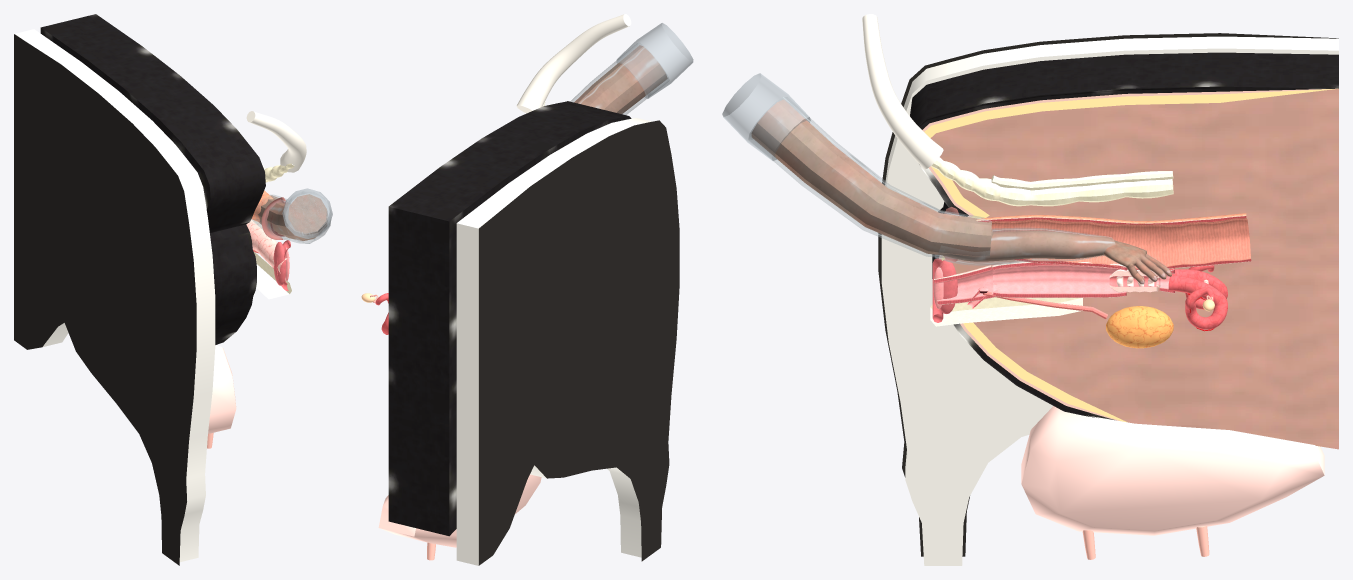
Rendered from tract-CofHcca7.glb.
3 renders of one model, left to right at view 1: azimuth 30°, elevation 25°; view 2: azimuth 150°, elevation 25°; view 3: azimuth 270°, elevation 25°, orthographic. The views are drawn at different scales.
Parts seen in each view (by area): view 1: TR_body_far, TR_skin_section, HAND_sleeve, TR_udder, TR_tail_section, TR_pelvis, TR_vulva, TR_vestibule, TR_anus; view 2: TR_body_far, TR_skin_section, HAND_sleeve, TR_tail_section, TR_udder; view 3: TR_skin_section, TR_body_far, TR_udder, HAND_sleeve, TR_rectum, TR_sacrum, HAND_forearm, TR_vagina, TR_tail_section, TR_pelvis, TR_bladder, TR_horn_right (+4 smaller).
Part boxes in pixels (box(x1,y1,x2,y2)): TR_body_far: box(14, 29, 215, 565); TR_skin_section: box(40, 14, 265, 344); HAND_sleeve: box(255, 188, 332, 243); TR_udder: box(207, 345, 236, 448); TR_tail_section: box(246, 111, 306, 172); TR_pelvis: box(254, 252, 291, 299); TR_vulva: box(273, 242, 289, 285); TR_vestibule: box(254, 232, 289, 273); TR_anus: box(261, 197, 285, 239); TR_body_far: box(456, 118, 679, 565); TR_skin_section: box(388, 101, 631, 536); HAND_sleeve: box(570, 23, 693, 114); TR_tail_section: box(516, 14, 631, 113); TR_udder: box(378, 474, 541, 560); TR_skin_section: box(910, 52, 1338, 449); TR_body_far: box(878, 33, 1338, 565); TR_udder: box(1021, 406, 1324, 559); HAND_sleeve: box(722, 73, 993, 260); TR_rectum: box(976, 213, 1251, 269); TR_sacrum: box(931, 157, 1173, 206); HAND_forearm: box(935, 228, 1115, 265); TR_vagina: box(992, 261, 1126, 297); TR_tail_section: box(862, 14, 943, 169); TR_pelvis: box(930, 297, 1082, 326); TR_bladder: box(1106, 306, 1173, 348); TR_horn_right: box(1168, 275, 1227, 329).
Bounding box in the file's own units: 0.4844 × 1.34 × 1.3.
Materials: 43 (25 with a texture image).
